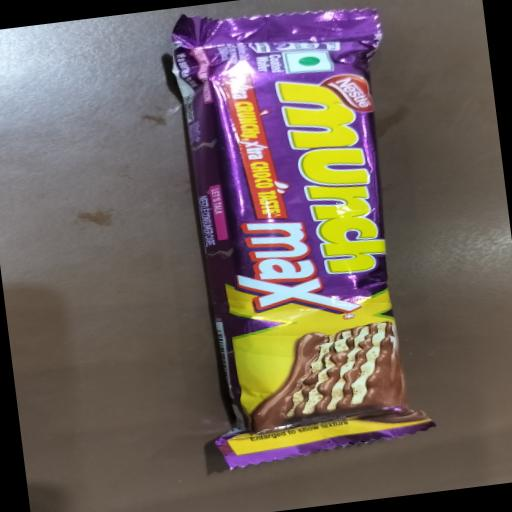chocolate: (137, 0, 436, 479)
munch: (218, 70, 396, 327)
